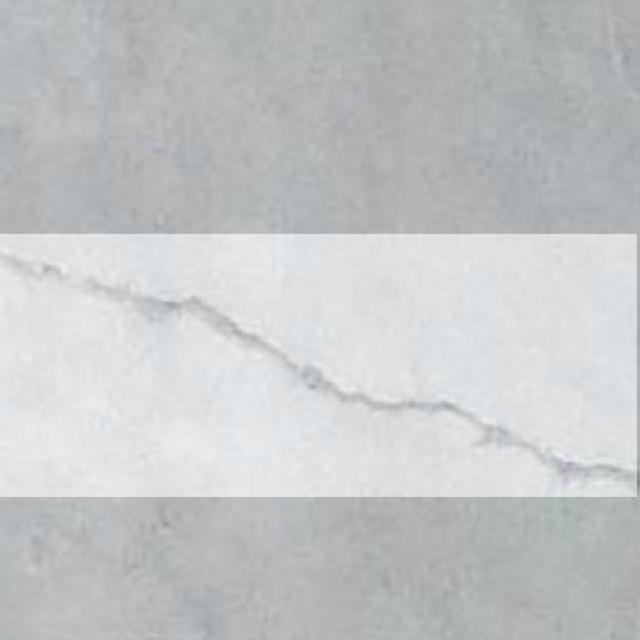crack: (0, 222, 640, 514)
